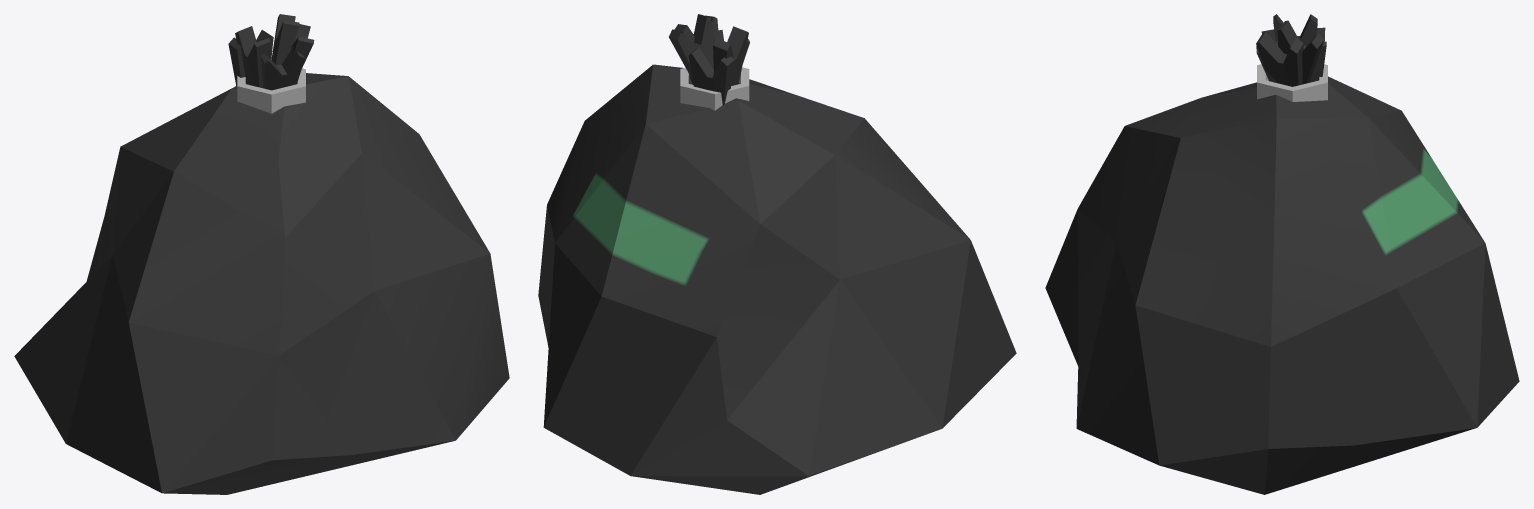
Rendered from obj_garbage_001.FBX.
3 renders of one model, left to right at view 1: azimuth 30°, elevation 25°; view 2: azimuth 150°, elevation 25°; view 3: azimuth 270°, elevation 25°, orthographic. The views are drawn at different scales.
Parts seen in each view (by area): view 1: obj_garbage_001; view 2: obj_garbage_001; view 3: obj_garbage_001.
Part boxes in pixels (x1,y1,x2,y2): obj_garbage_001: [14, 14, 509, 494]; obj_garbage_001: [538, 14, 1016, 494]; obj_garbage_001: [1045, 14, 1519, 494].
Bounding box in the file's own units: 97.99 × 94.65 × 96.55.
